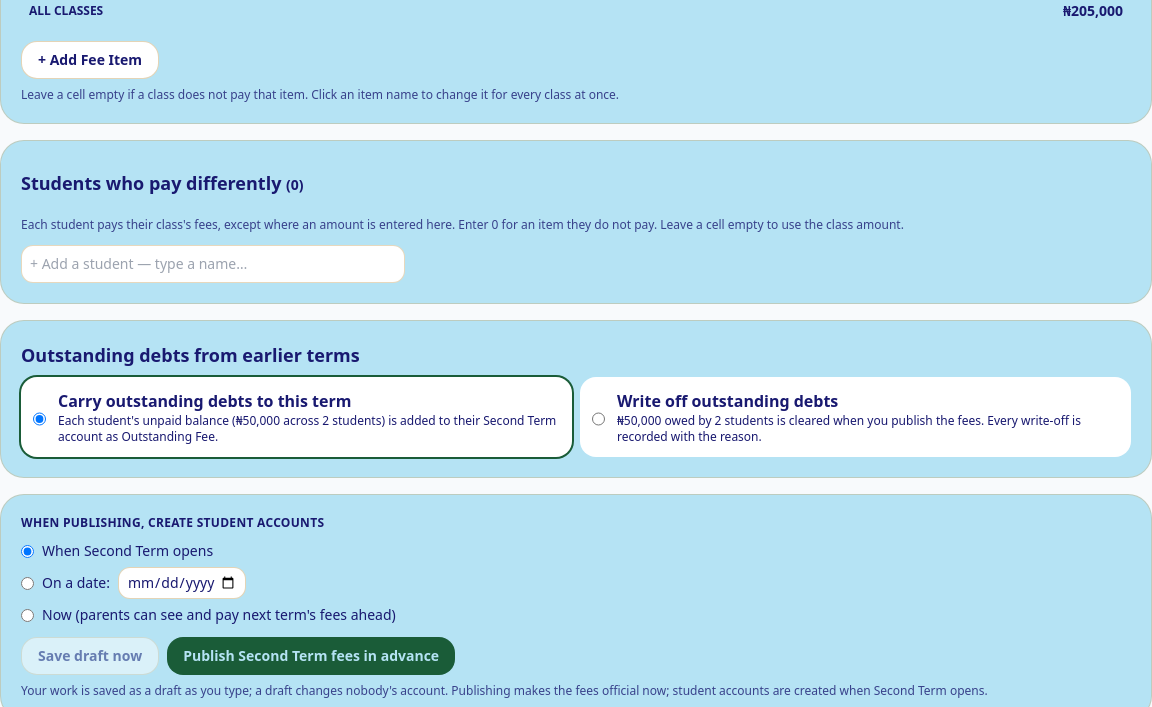
Test: next term, set before it opens: the page says nobody is billed yet, and publishing says so too
(page scrolled)
Click the radio button labelled "Write off outstanding debts": (598, 419) [592,393,605,445]
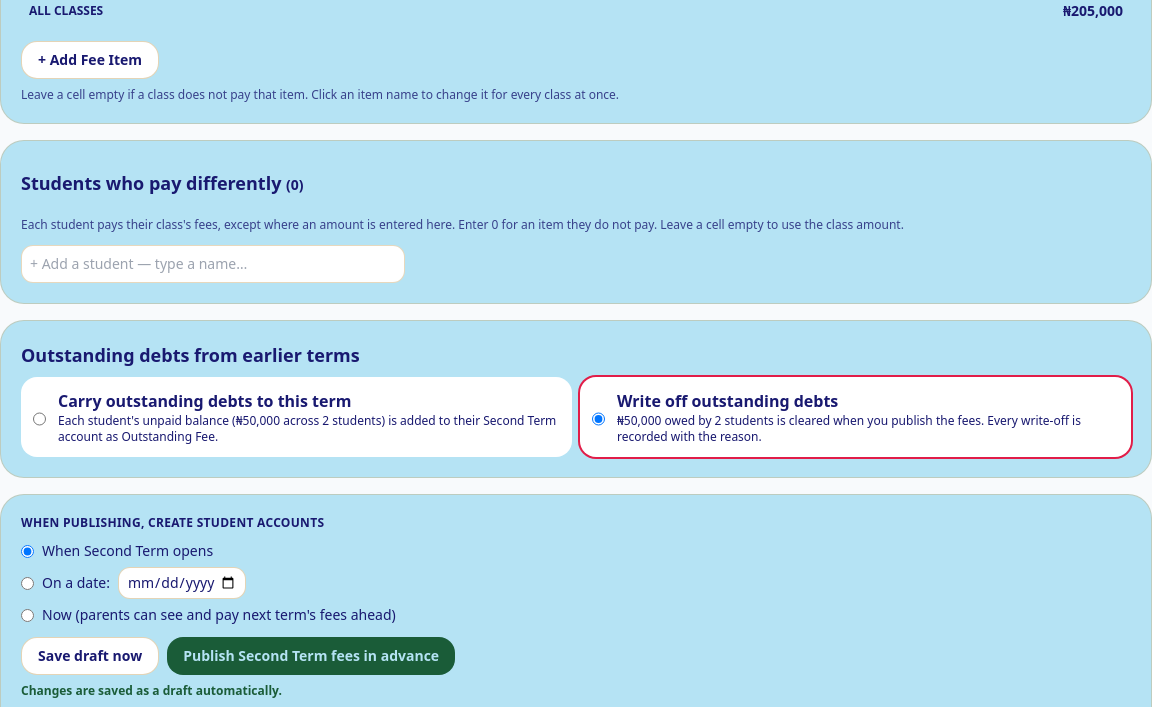
Writing off happens when the term opens, so publishing now asks nothing.
Click the button "Publish Second Term fees in advance": (311, 656) [167,637,455,675]
(page scrolled)
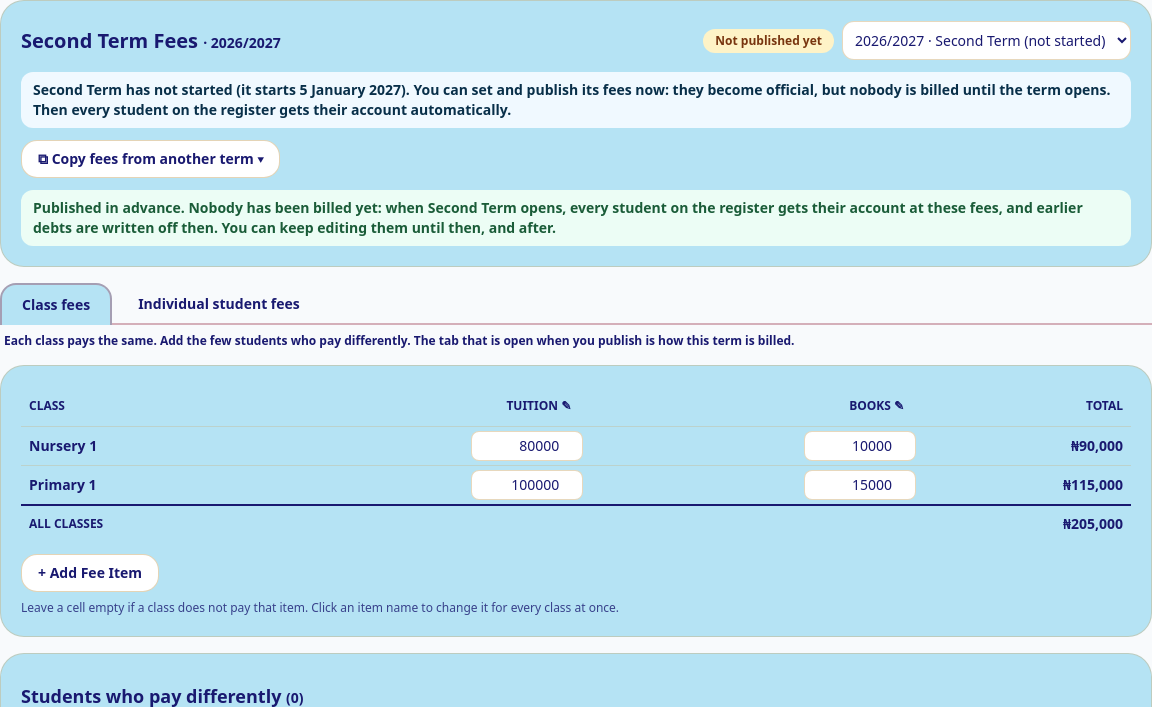
Result: the text "Published in advance. Nobody has been billed yet: when Second Term opens" is shown at [33,198,1083,237]
